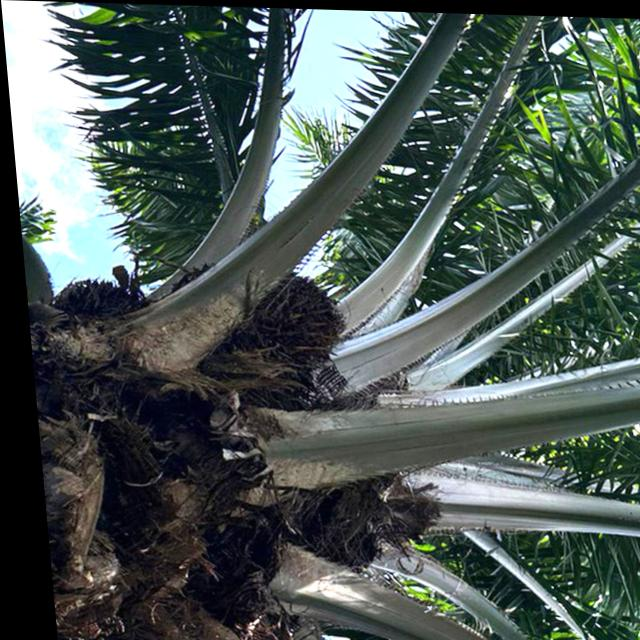ripe: (241, 269, 346, 366)
